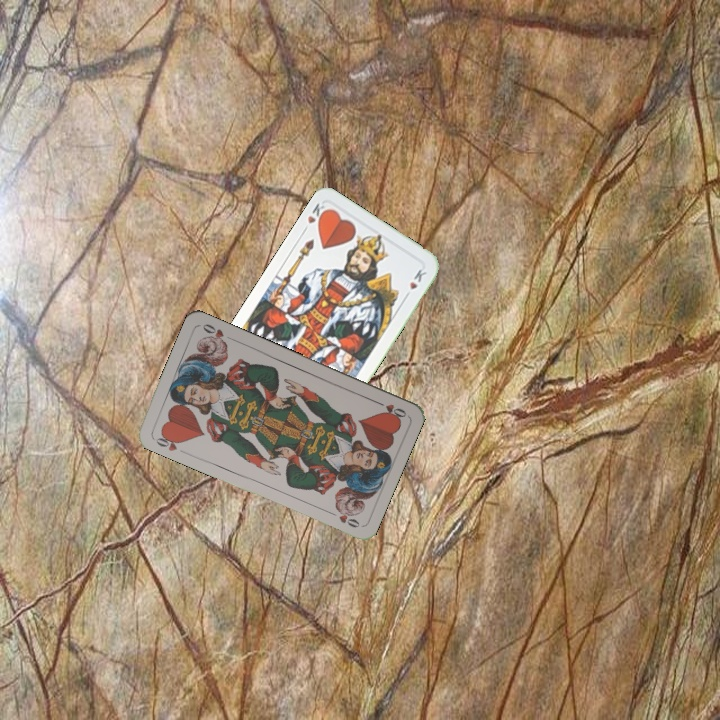HK: (298, 199, 331, 235)
HO: (371, 396, 409, 420), (150, 429, 185, 454)
